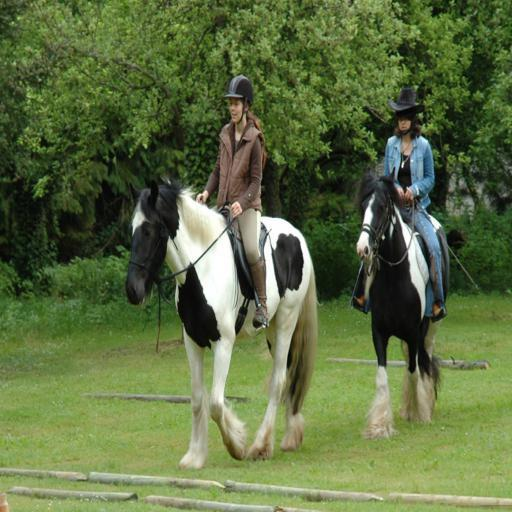horse: (124, 177, 319, 469), (355, 163, 452, 441)
